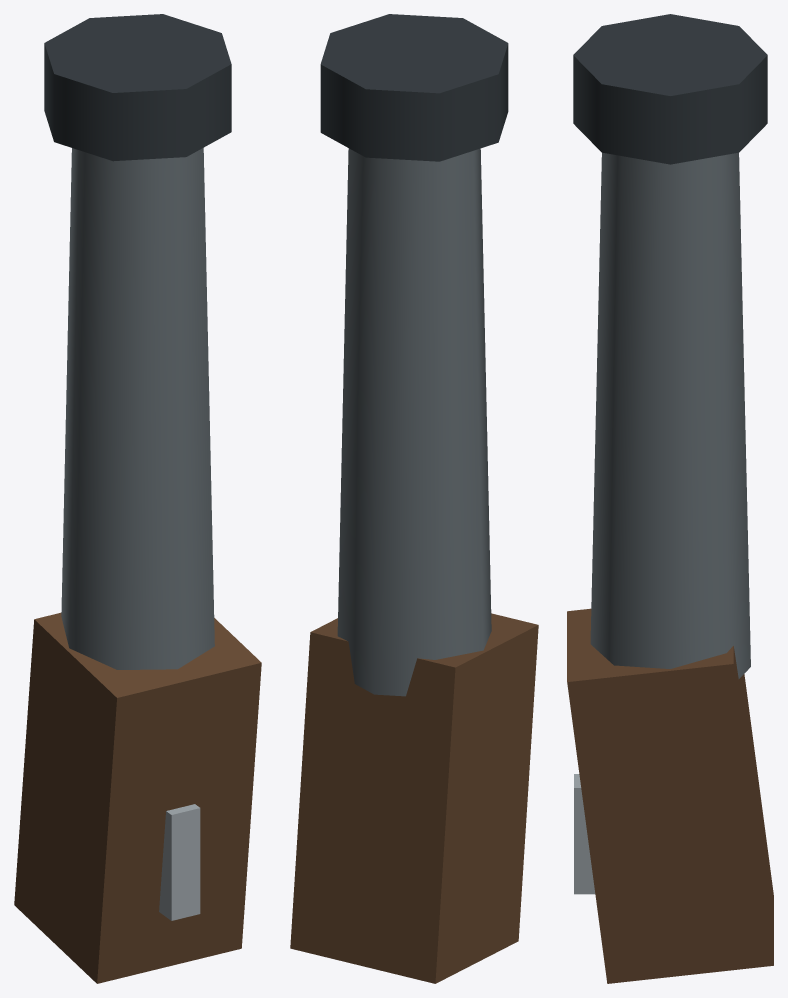
File: pistol.glb
3 renders of one model, left to right at view 1: azimuth 30°, elevation 25°; view 2: azimuth 150°, elevation 25°; view 3: azimuth 270°, elevation 25°, orthographic.
Visible parts, largest first — view 1: pistol-barrel, pistol-stock, pistol-muzzle-ring, pistol-trigger; view 2: pistol-barrel, pistol-stock, pistol-muzzle-ring; view 3: pistol-barrel, pistol-stock, pistol-muzzle-ring, pistol-trigger.
Boxes of the visible parts, left/top/right/bottom form: pistol-barrel: left=61, top=148, right=214, bottom=669; pistol-stock: left=14, top=612, right=261, bottom=983; pistol-muzzle-ring: left=44, top=14, right=231, bottom=161; pistol-trigger: left=159, top=804, right=200, bottom=920; pistol-barrel: left=337, top=148, right=491, bottom=696; pistol-stock: left=290, top=613, right=538, bottom=983; pistol-muzzle-ring: left=320, top=14, right=508, bottom=161; pistol-barrel: left=590, top=152, right=750, bottom=678; pistol-stock: left=567, top=608, right=773, bottom=983; pistol-muzzle-ring: left=573, top=14, right=767, bottom=164; pistol-trigger: left=574, top=774, right=595, bottom=894.
Size of the model in its own units: 0.116 by 0.5878 by 0.1232.
